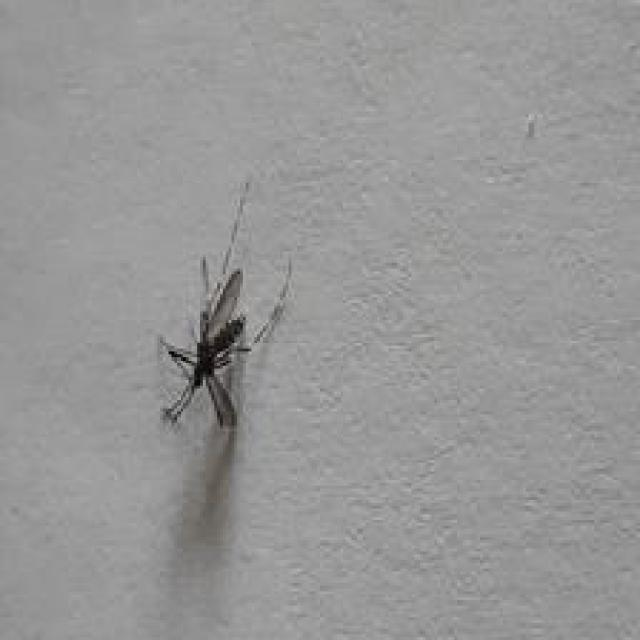Aedes albopictus: (156, 180, 293, 431)
